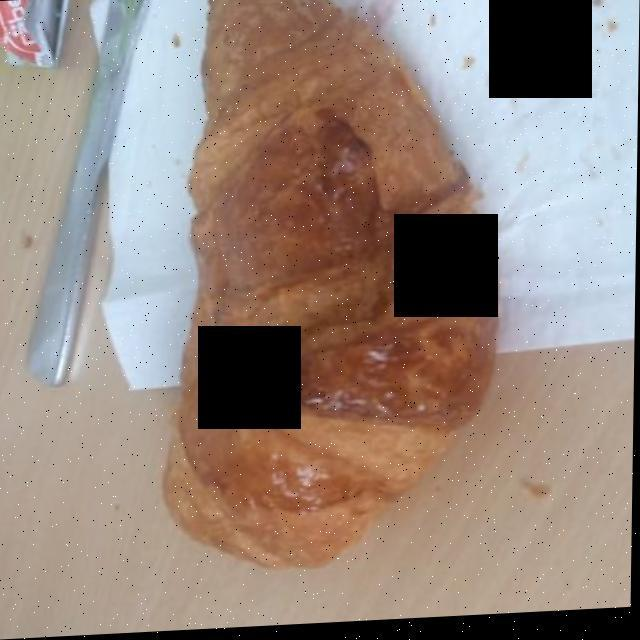croissant: (163, 0, 494, 570)
